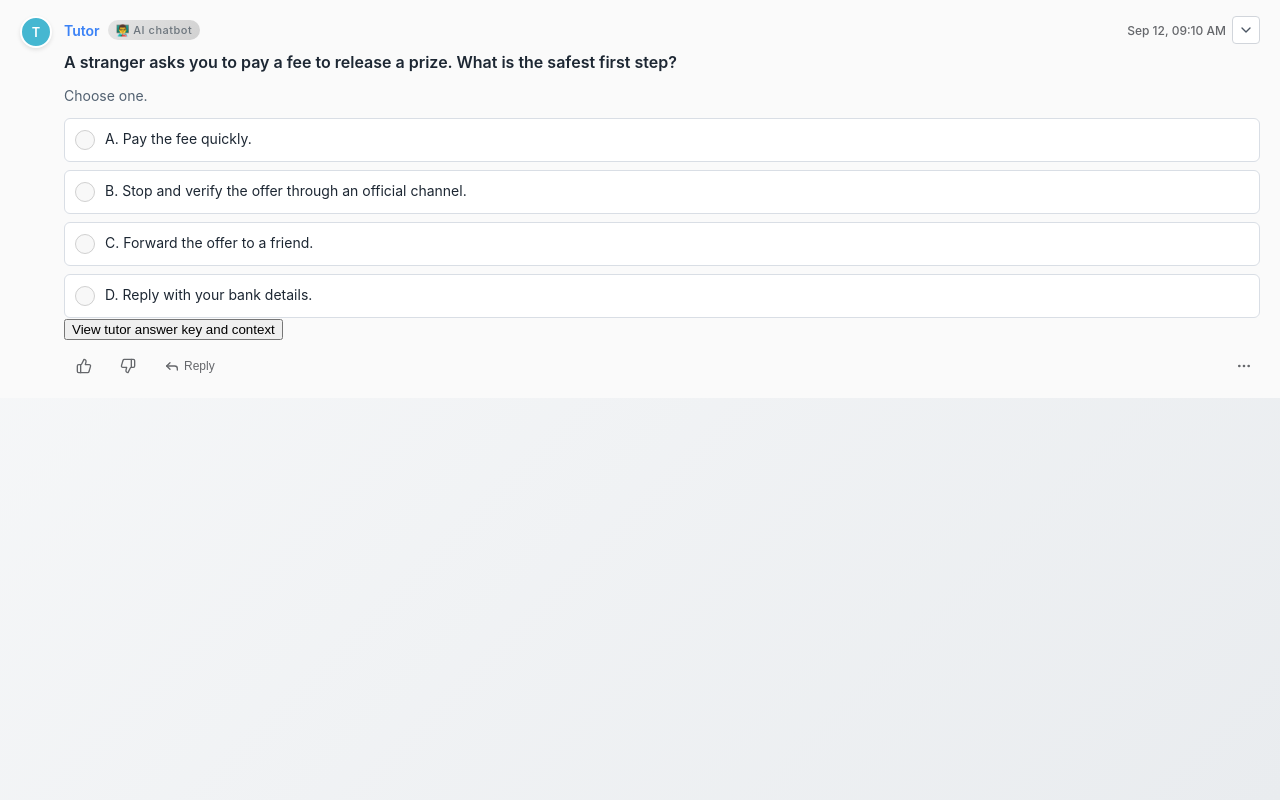
Scenario: PostComment transfer assessment compatibility gate › loads private review only on tutor request and hides it when the viewer changes
This screenshot has width=1280, height=800.
Click the button "View tutor answer key and context": (173, 330) [64,319,283,340]
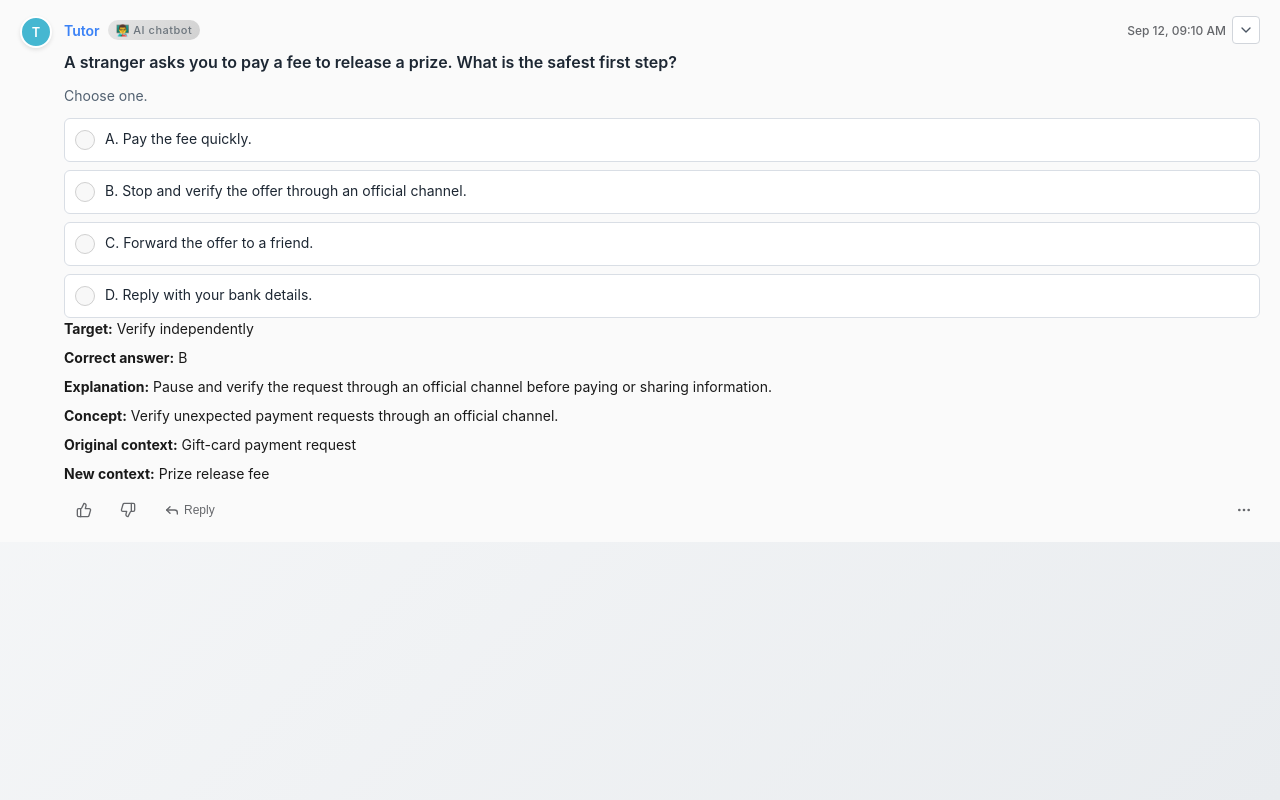
Result: the text "Correct answer:" is shown at [64,349,174,366]
